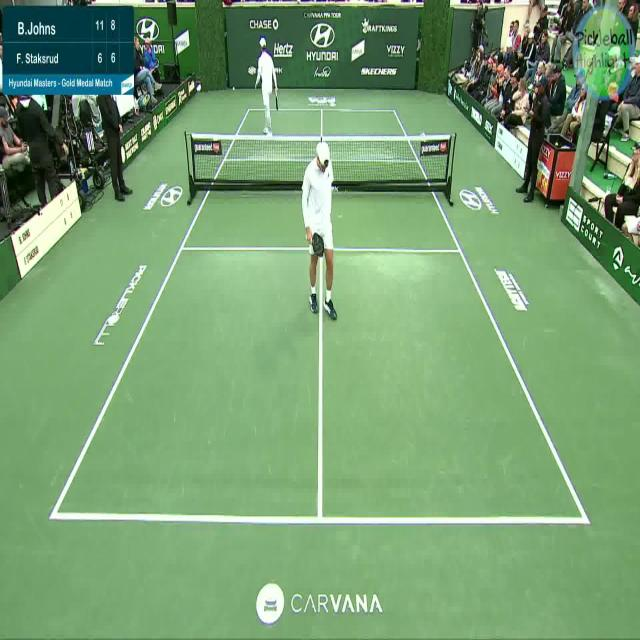Court: (53, 107, 588, 522)
ball: (230, 83, 236, 93)
